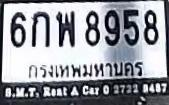5: (123, 9, 138, 45)
6: (9, 11, 25, 47)
8: (84, 10, 99, 45), (143, 9, 158, 44)
9: (104, 9, 119, 45)
A01: (31, 11, 49, 47)
A30: (55, 10, 74, 46)
BKK: (26, 57, 144, 82)
